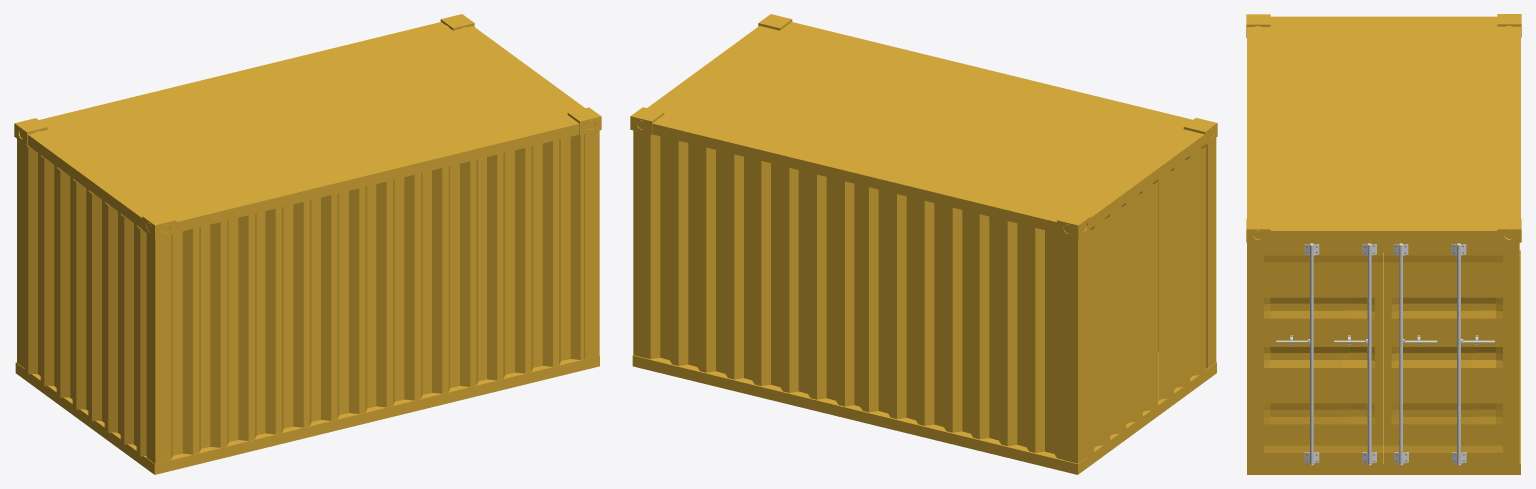
The model's file is gold-container-01.glb.
3 renders of one model, left to right at view 1: azimuth 30°, elevation 25°; view 2: azimuth 150°, elevation 25°; view 3: azimuth 270°, elevation 25°, orthographic.
Parts seen in each view (by area): view 1: Cube.069; view 2: Cube.069; view 3: Cube.069, Cube.012, Cube.066, Cube.008, Cube.000.
Part boxes in pixels (x1,y1,x2,y2): Cube.069: (14,14,601,474); Cube.069: (630,14,1217,474); Cube.069: (1246,14,1521,474); Cube.012: (1334,243,1376,465); Cube.066: (1276,243,1319,465); Cube.008: (1393,243,1437,465); Cube.000: (1451,243,1494,465).
Size of the model in its own units: 8.73 by 4.61 by 4.67.
